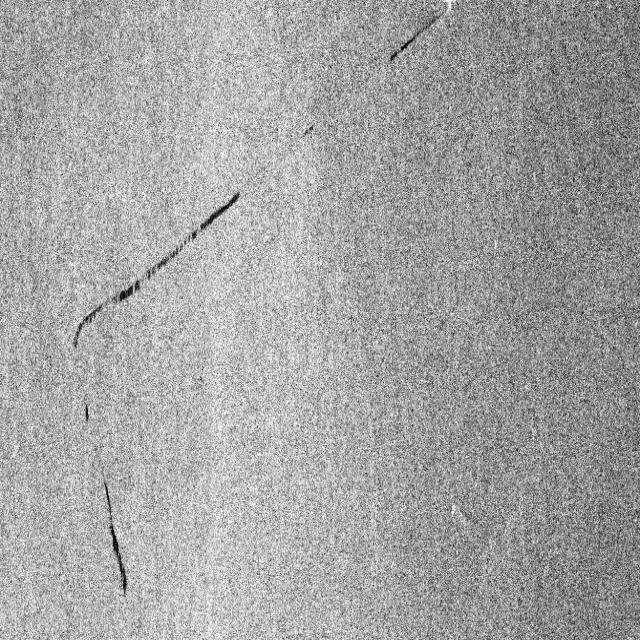oil-spill: (72, 183, 244, 358), (97, 463, 131, 607), (384, 13, 442, 68), (299, 116, 318, 148), (78, 394, 92, 429)
ship: (442, 1, 462, 20)
